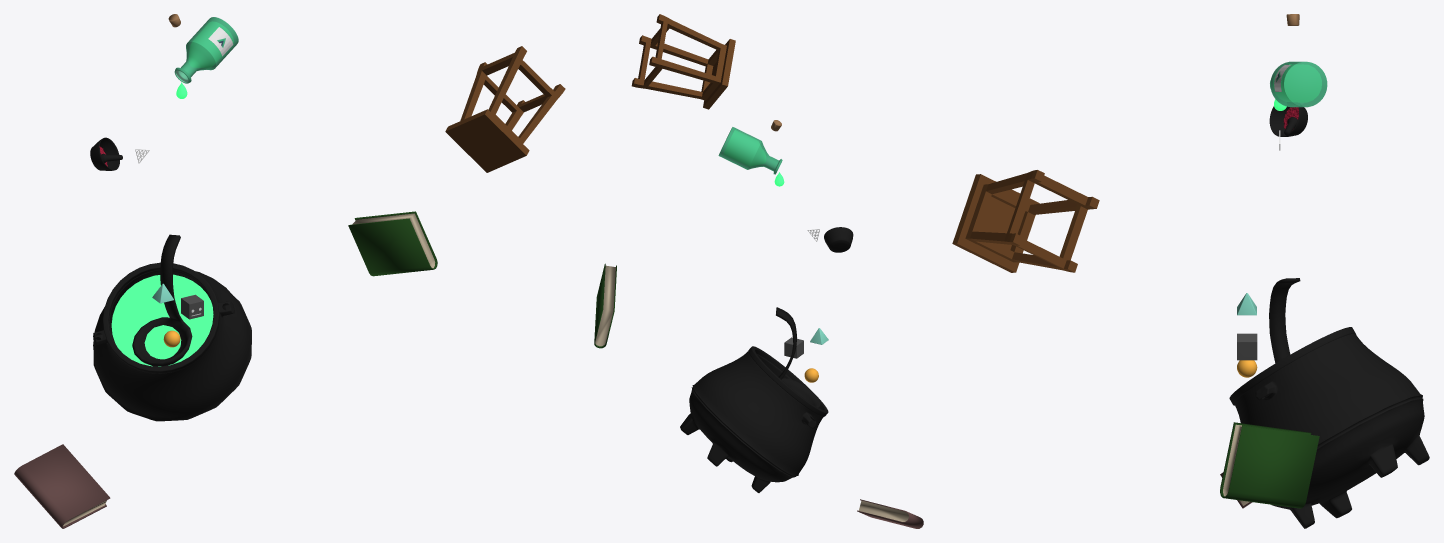
The model's file is Potions-class.glb.
3 views of the same model, side by side, from view 1: azimuth 30°, elevation 25°; view 2: azimuth 150°, elevation 25°; view 3: azimuth 270°, elevation 25° (orthographic). The views are drawn at different scales.
Parts seen in each view (by area): view 1: Cauldron, Stool, Potion, Book, Book.001, Spon, Bottle, Liquid, Tres, Mortar; view 2: Cauldron, Stool, Bottle, Book.001, Liquid, Book, Spon, Tres, Mortar; view 3: Cauldron, Stool, Book.001, Bottle, Spon, Liquid, Tres, Mortar.
Part boxes in pixels (x1,y1,x2,y2): Cauldron: (93,262,251,421); Stool: (445,46,565,172); Potion: (111,274,213,366); Book: (14,444,110,528); Book.001: (348,211,437,276); Spon: (132,234,192,366); Bottle: (174,17,238,83); Liquid: (189,22,233,67); Tres: (152,283,203,347); Mortar: (90,137,119,170); Cauldron: (680,346,828,492); Stool: (631,14,735,109); Bottle: (718,127,782,174); Book.001: (594,263,616,348); Liquid: (724,130,765,166); Book: (857,499,923,528); Spon: (776,307,820,408); Tres: (784,328,828,382); Mortar: (824,227,853,252); Cauldron: (1229,327,1429,528); Stool: (952,170,1099,272); Book.001: (1220,422,1319,508); Bottle: (1270,61,1327,107); Spon: (1269,278,1300,363); Liquid: (1273,64,1321,101); Tres: (1237,293,1257,377); Mortar: (1269,106,1307,136).
Size of the model in its own units: 5.59 by 5.69 by 4.43.
Materials: 16 (1 with a texture image).
